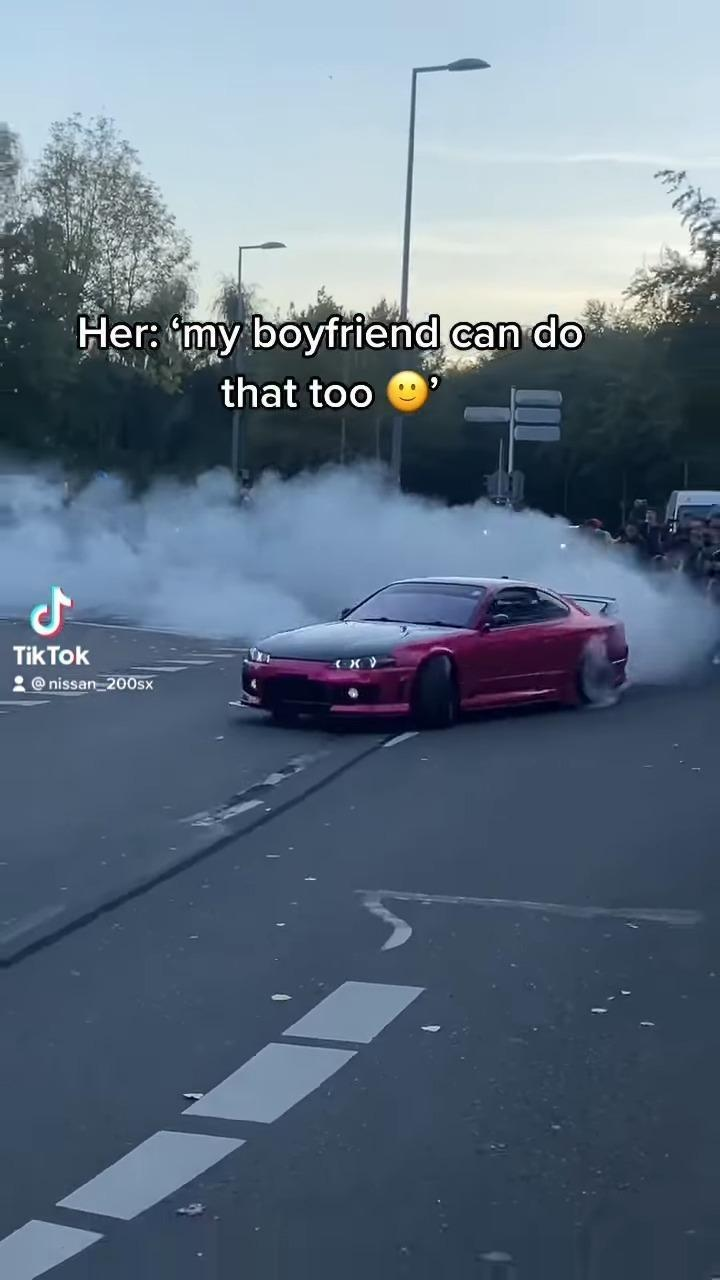Car: (245, 575, 633, 735)
